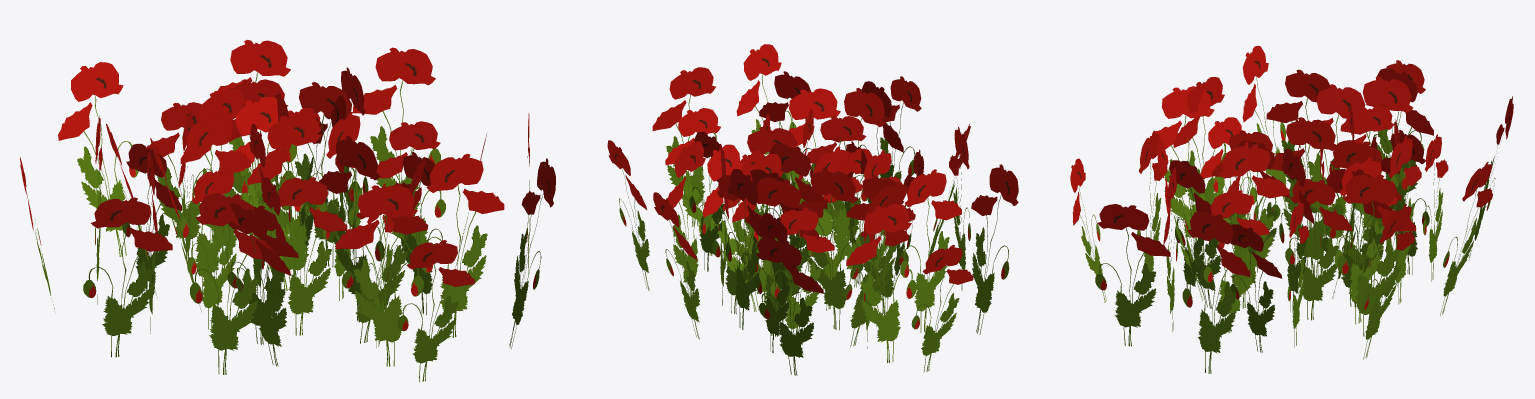
File: space_poppy.fbx
3 renders of one model, left to right at view 1: azimuth 30°, elevation 25°; view 2: azimuth 150°, elevation 25°; view 3: azimuth 270°, elevation 25°, orthographic. The views are drawn at different scales.
Parts seen in each view (by area): view 1: Cube_46; view 2: Cube_46; view 3: Cube_46.
Part boxes in pixels (left/top/right/bottom): Cube_46: left=20, top=40, right=555, bottom=382; Cube_46: left=607, top=44, right=1018, bottom=375; Cube_46: left=1070, top=46, right=1513, bottom=373.
Bounding box in the file's own units: 65.66 × 28.98 × 66.
1 material, 1 textured.
